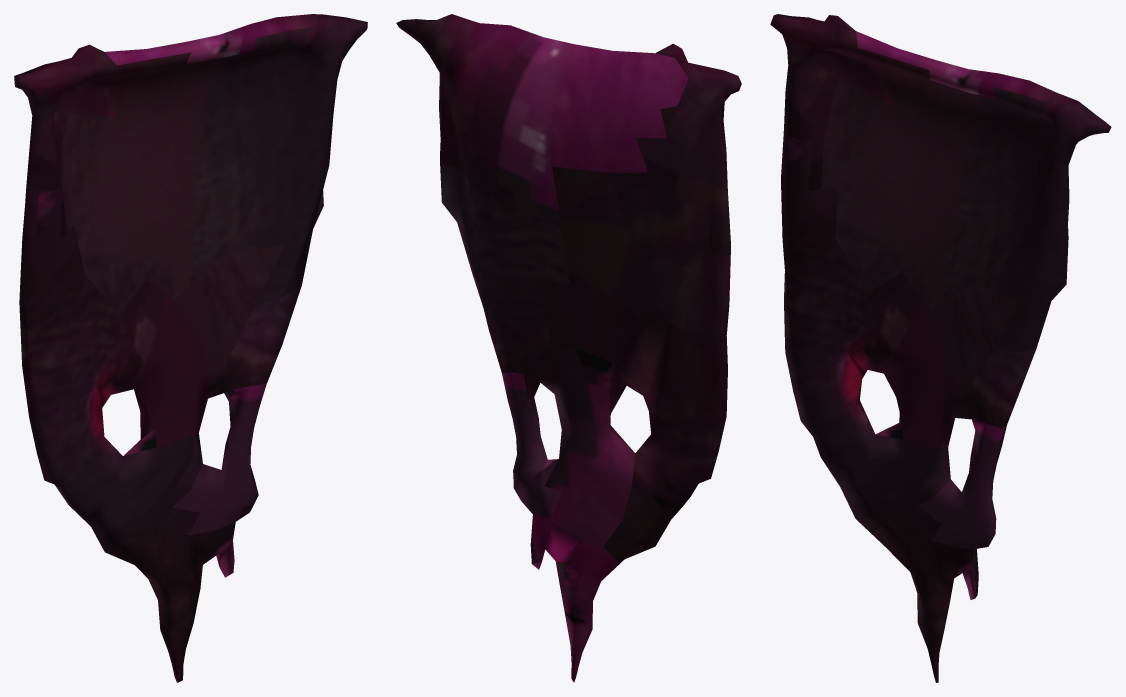
File: terrain-abyss-chancel-object-107.obj
3 renders of one model, left to right at view 1: azimuth 30°, elevation 25°; view 2: azimuth 150°, elevation 25°; view 3: azimuth 330°, elevation 25°, orthographic. The views are drawn at different scales.
Parts seen in each view (by area): view 1: terrain-abyss-chancel-object-107; view 2: terrain-abyss-chancel-object-107; view 3: terrain-abyss-chancel-object-107.
Boxes of the visible parts, x1,y1,x2,y2 form: terrain-abyss-chancel-object-107: [14, 14, 367, 682]; terrain-abyss-chancel-object-107: [396, 14, 741, 682]; terrain-abyss-chancel-object-107: [770, 14, 1111, 682].
Size of the model in its own units: 0.1452 by 0.2639 by 0.0233.
